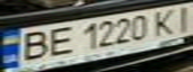0: (130, 11, 154, 43)
1: (75, 20, 100, 52)
2: (112, 15, 136, 46), (97, 17, 118, 50)
B: (12, 28, 54, 63)
E: (42, 24, 78, 58)
I: (169, 3, 193, 33)
K: (148, 7, 184, 37)
